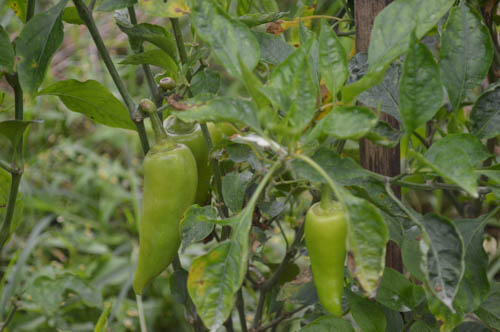ChiliPepper: (133, 147, 197, 294), (308, 204, 350, 320), (165, 116, 215, 205)
